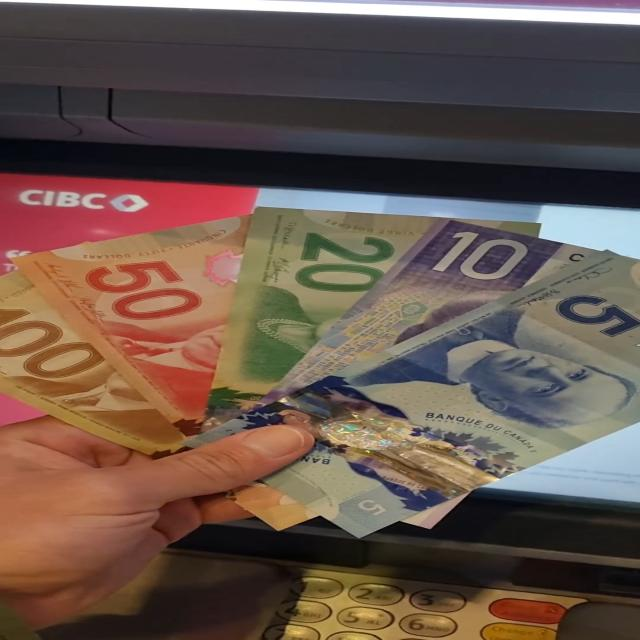10 cad: (249, 220, 605, 412)
100 cad: (0, 271, 186, 452)
20 cad: (204, 212, 445, 430)
5 cad: (266, 250, 640, 534)
50 cad: (13, 213, 248, 435)
